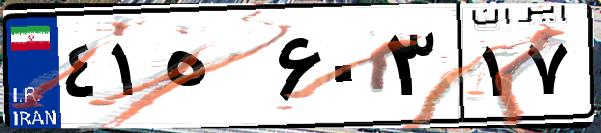0: (330, 28, 385, 110)
1: (475, 38, 525, 113), (110, 28, 158, 98)
3: (385, 28, 445, 110)
4: (57, 26, 110, 100)
6: (270, 28, 330, 110)
7: (525, 38, 570, 115)
ه: (158, 20, 270, 120)
